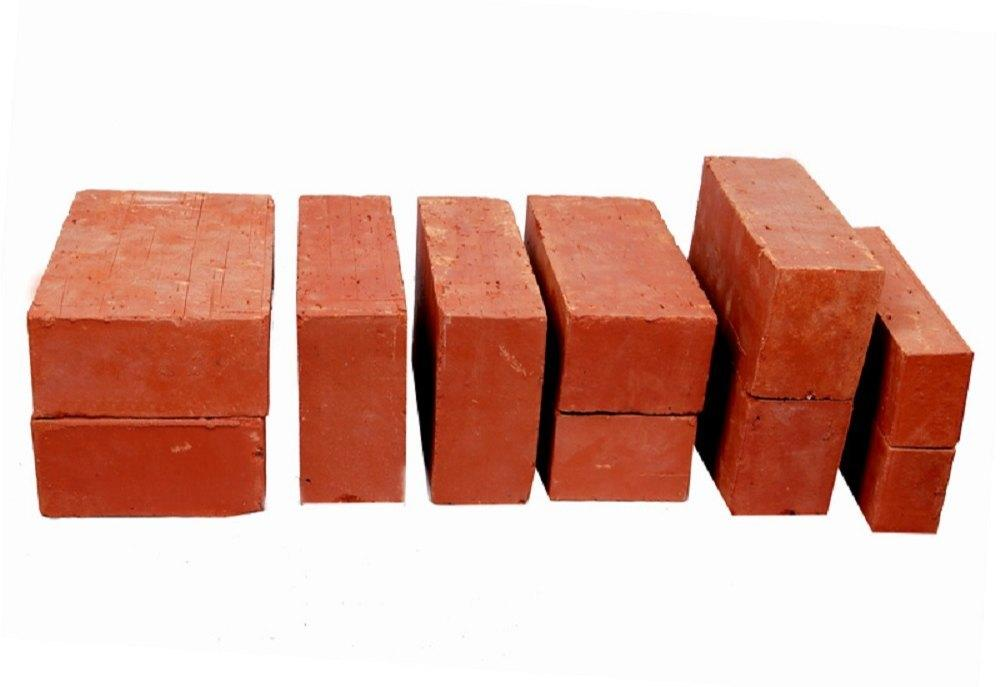brick: (25, 312, 267, 423), (30, 420, 265, 517), (432, 308, 545, 507), (293, 313, 408, 505), (752, 268, 882, 405), (558, 313, 717, 415), (728, 398, 848, 518), (548, 412, 697, 502), (890, 353, 968, 448)
